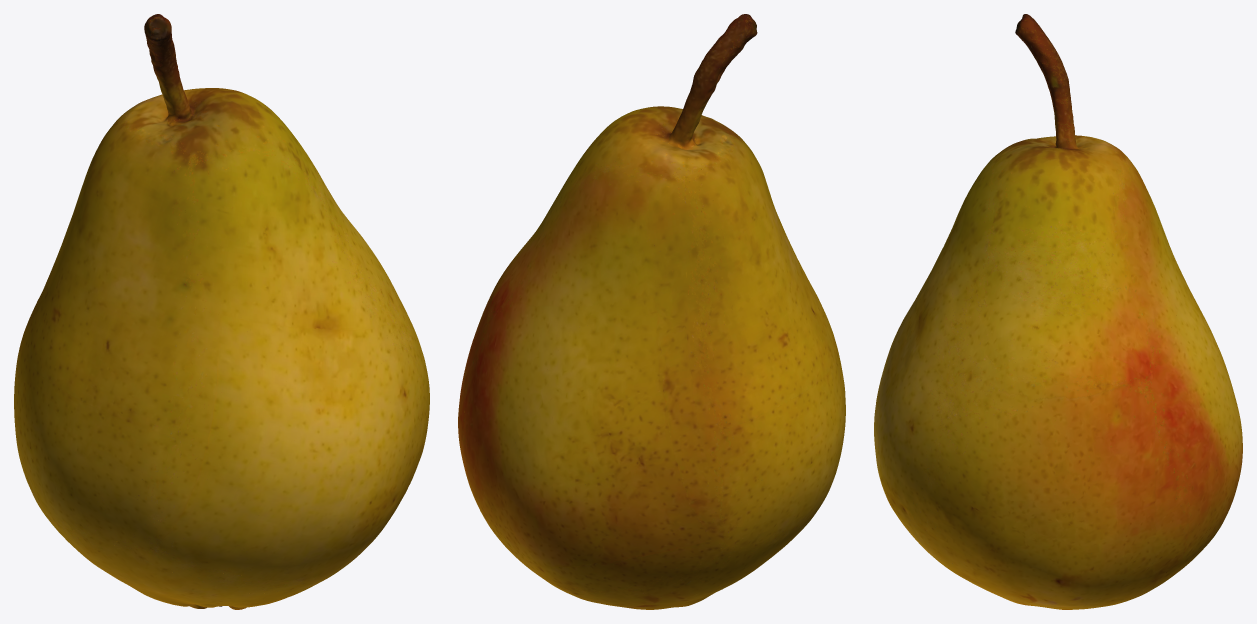
Rendered from pear-opt.glb.
3 renders of one model, left to right at view 1: azimuth 30°, elevation 25°; view 2: azimuth 150°, elevation 25°; view 3: azimuth 270°, elevation 25°, orthographic. The views are drawn at different scales.
Visible parts, largest first — view 1: Object_4; view 2: Object_4; view 3: Object_4.
Boxes of the visible parts, bbox=[...] form: Object_4: bbox=[14, 14, 429, 609]; Object_4: bbox=[458, 14, 845, 609]; Object_4: bbox=[874, 14, 1242, 609].
Bounding box in the file's own units: 0.5093 × 0.8409 × 0.5125.
Materials: 1 (1 with a texture image).
